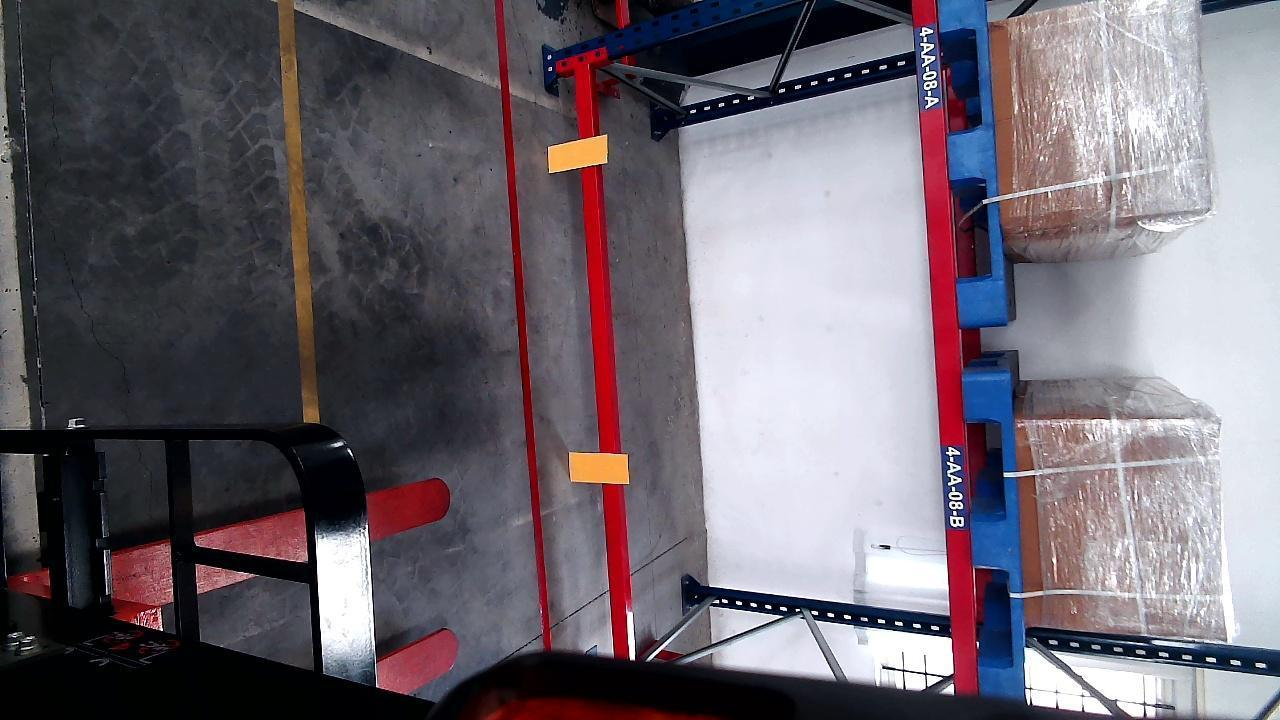h_rack: (914, 0, 975, 692), (576, 66, 631, 661)
orange_strip: (547, 134, 607, 173), (569, 450, 629, 483)
red_line: (496, 0, 554, 644)
small_pallet: (942, 0, 1016, 324), (964, 366, 1026, 686)
